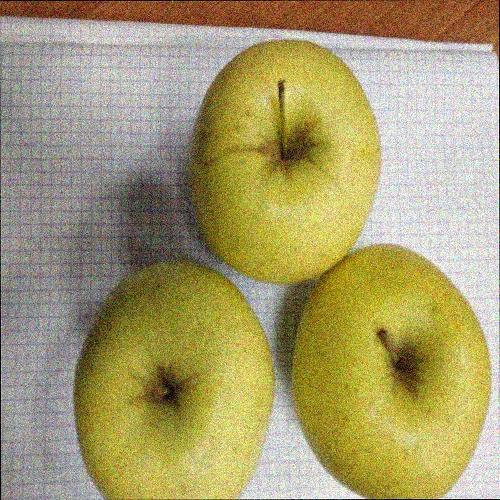green apple: (292, 242, 493, 500), (70, 261, 276, 500), (188, 38, 383, 289)
